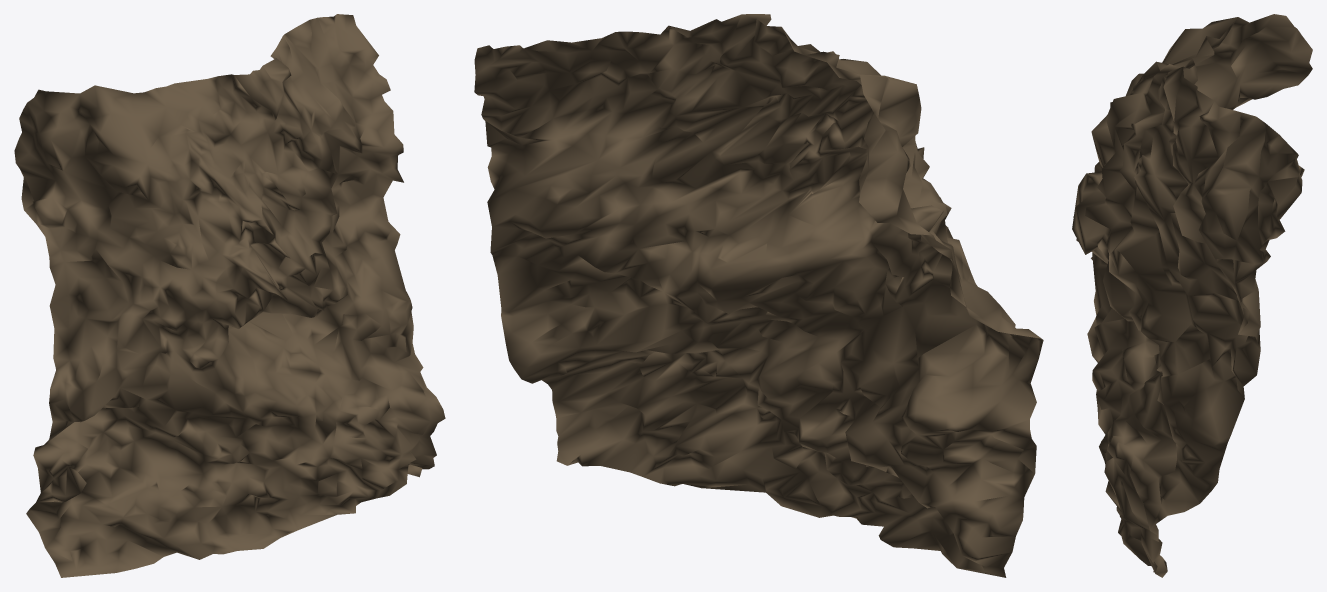
File: mountainside-lod1.glb
3 views of the same model, side by side, from view 1: azimuth 30°, elevation 25°; view 2: azimuth 150°, elevation 25°; view 3: azimuth 270°, elevation 25° (orthographic). The views are drawn at different scales.
Visible parts, largest first — view 1: mountainside; view 2: mountainside; view 3: mountainside.
Part boxes in pixels (x1=…): mountainside: x1=14, y1=14, x2=445, y2=577; mountainside: x1=474, y1=14, x2=1043, y2=577; mountainside: x1=1072, y1=14, x2=1312, y2=577.
Bounding box in the file's own units: 10.2 × 10.52 × 5.24.
